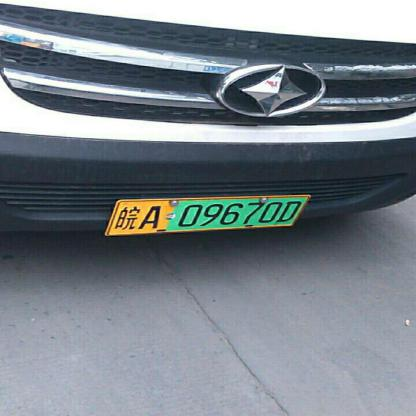lp: (107, 197, 308, 235)
